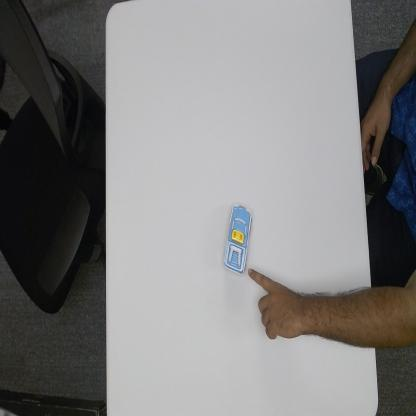Arm: (303, 285, 375, 347)
Car: (223, 201, 252, 275)
Hand: (248, 267, 306, 342)
